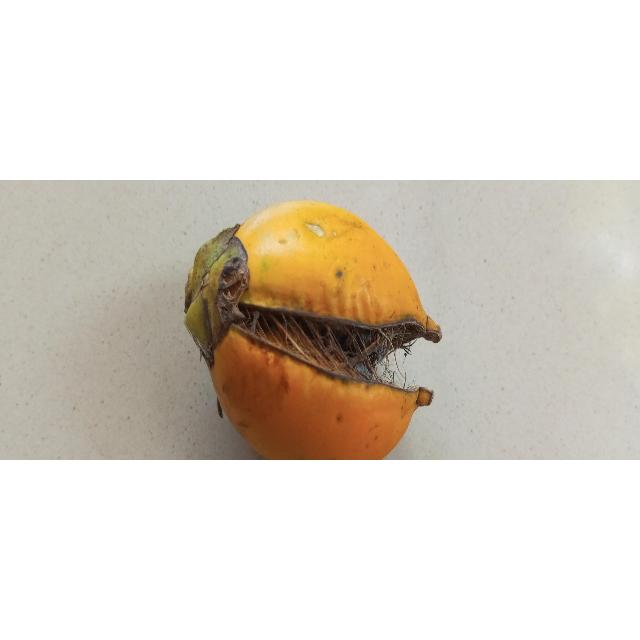damaged: (185, 201, 442, 461)
